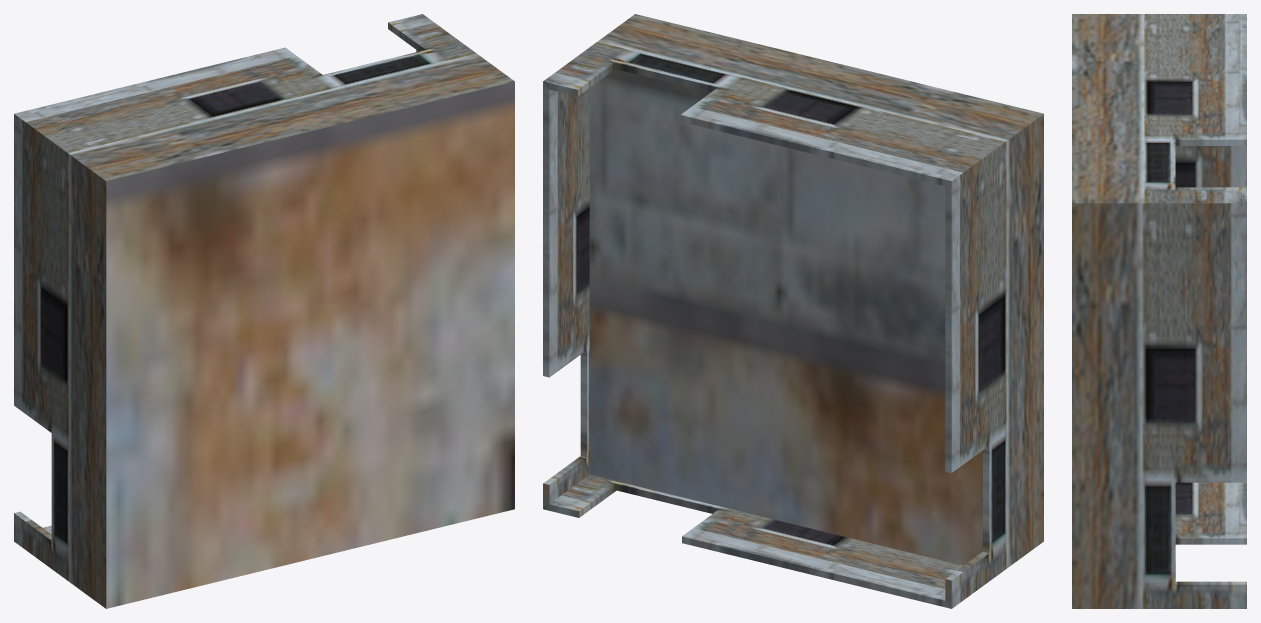
File: 8x8NSEW_doubles2_wtf.obj
The picture shows the model from 3 angles, left to right: view 1: azimuth 30°, elevation 25°; view 2: azimuth 150°, elevation 25°; view 3: azimuth 270°, elevation 25°; orthographic projection. The views are drawn at different scales.
Visible parts, largest first — view 1: group2; view 2: group2; view 3: group2.
Part boxes in pixels (x1,y1,x2,y2): group2: (14,14,514,608); group2: (543,14,1043,608); group2: (1072,14,1246,608).
Bounding box in the file's own units: 660 × 660 × 258.
